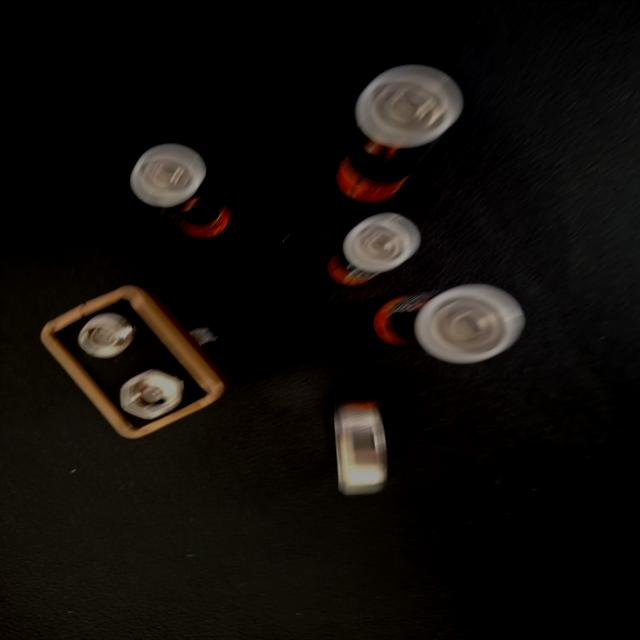9V: (393, 202, 600, 356)
AA: (177, 438, 304, 576), (115, 277, 266, 357)
AAA: (410, 402, 510, 498), (220, 356, 312, 428)
COIN: (253, 147, 306, 240)
